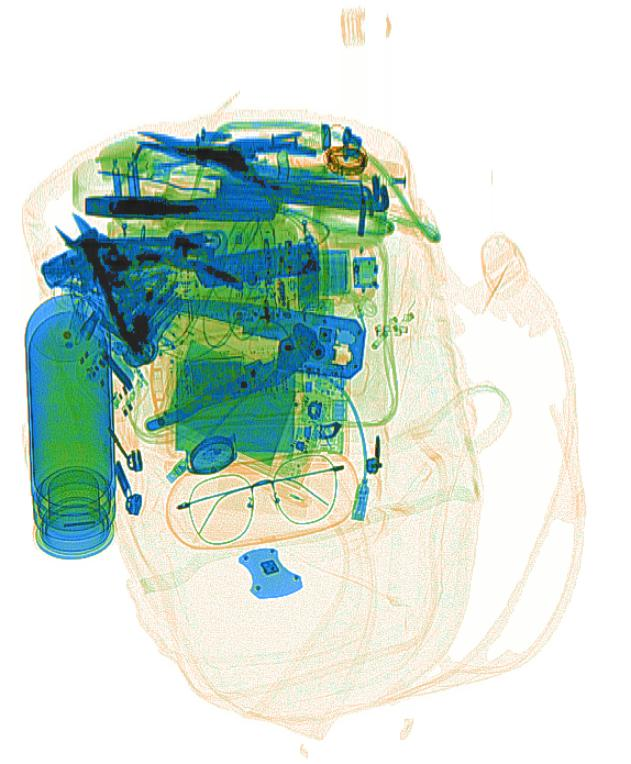knife: (190, 240, 322, 294)
scissors: (133, 127, 395, 243)
